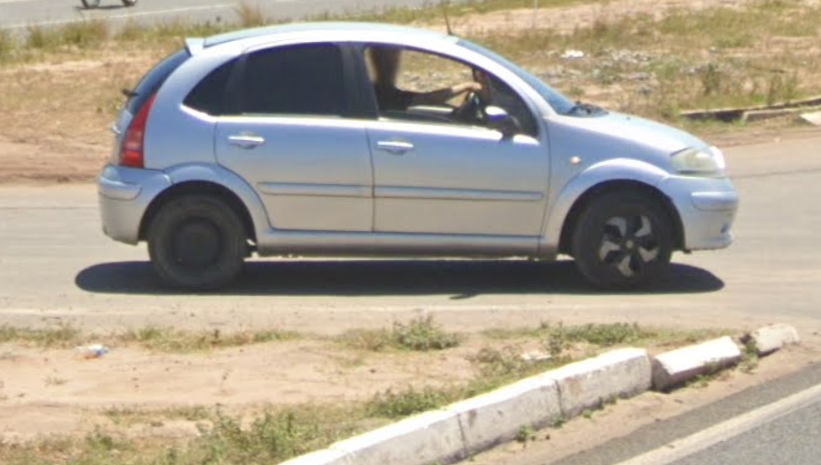car: (94, 2, 740, 291)
